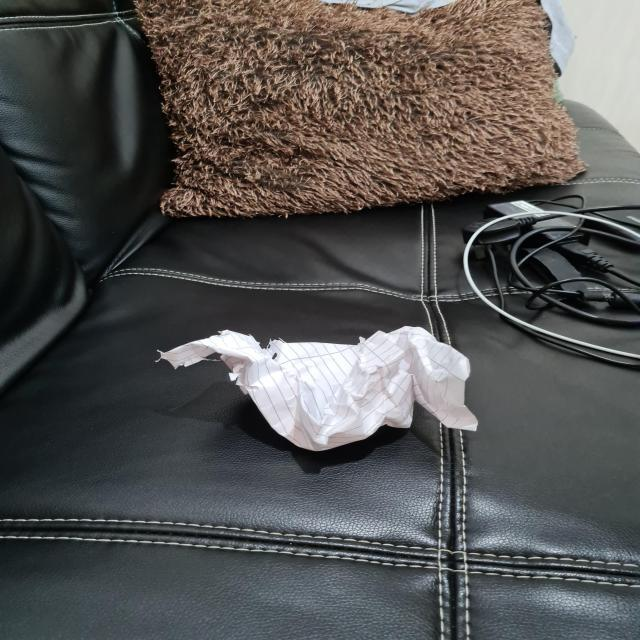trash: (170, 324, 474, 452)
